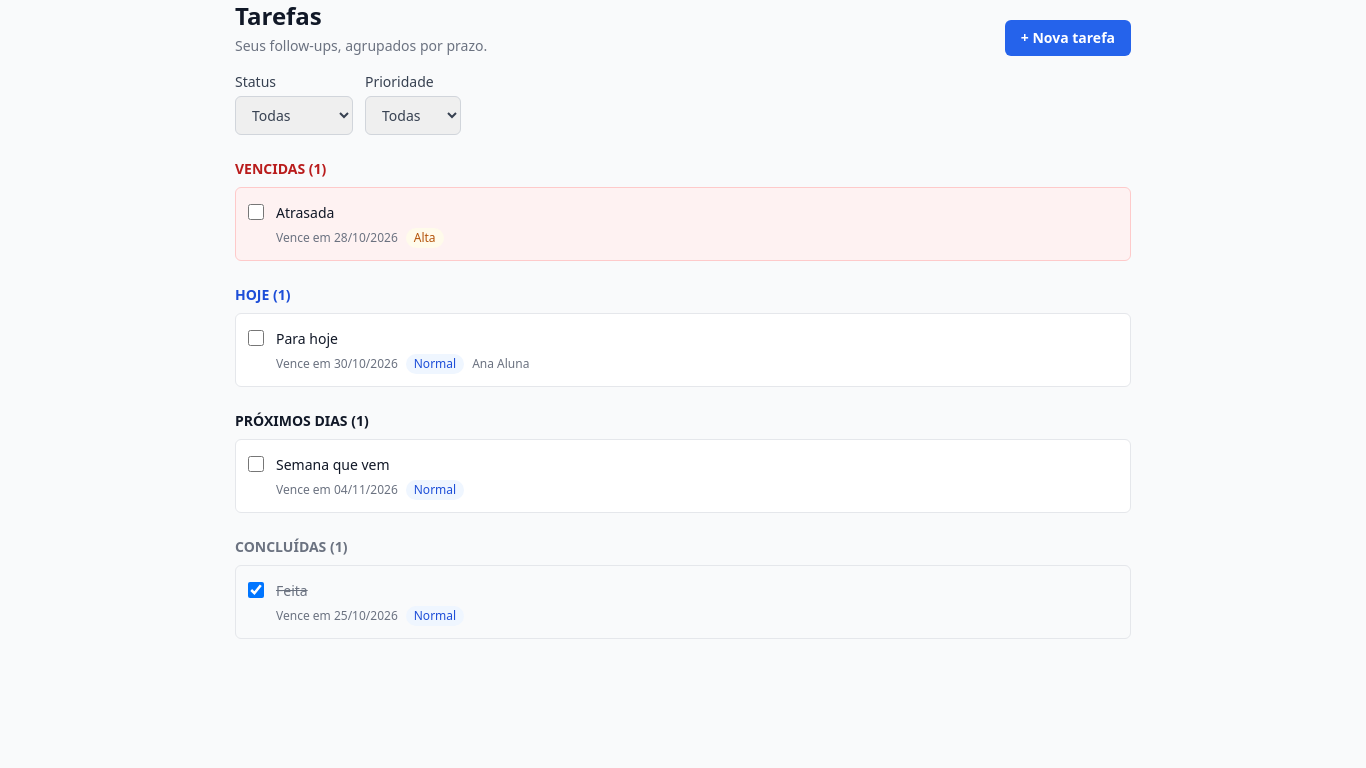
Test: tarefas › clique na tarefa abre o detalhe/edição, que permite excluir
The width and height of the screenshot is (1366, 768).
Click the button "Semana que vem" at (333,465), box [276,455,390,475]
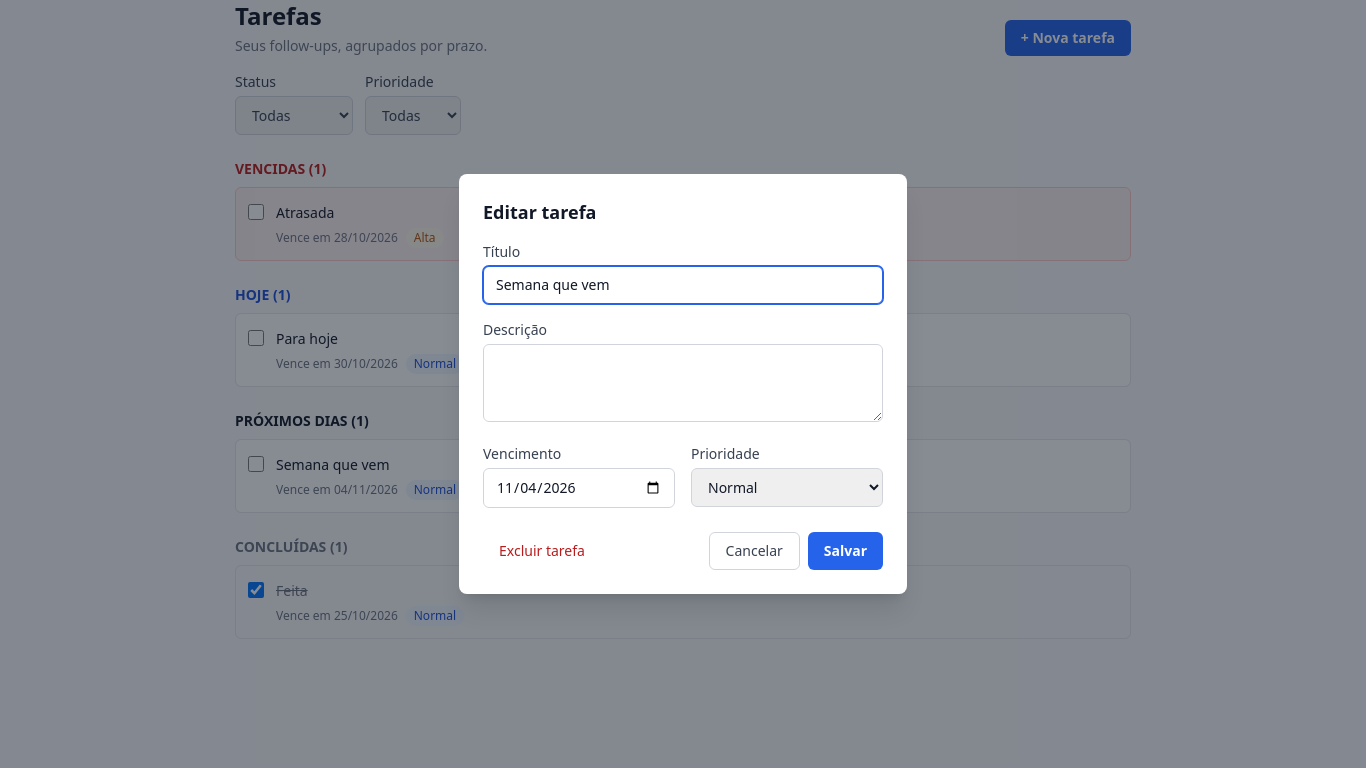
Expected: the field labelled "Título" holds "Semana que vem", [483,266,883,304]
Click the button "Excluir tarefa" at (542,551), box [483,533,601,569]
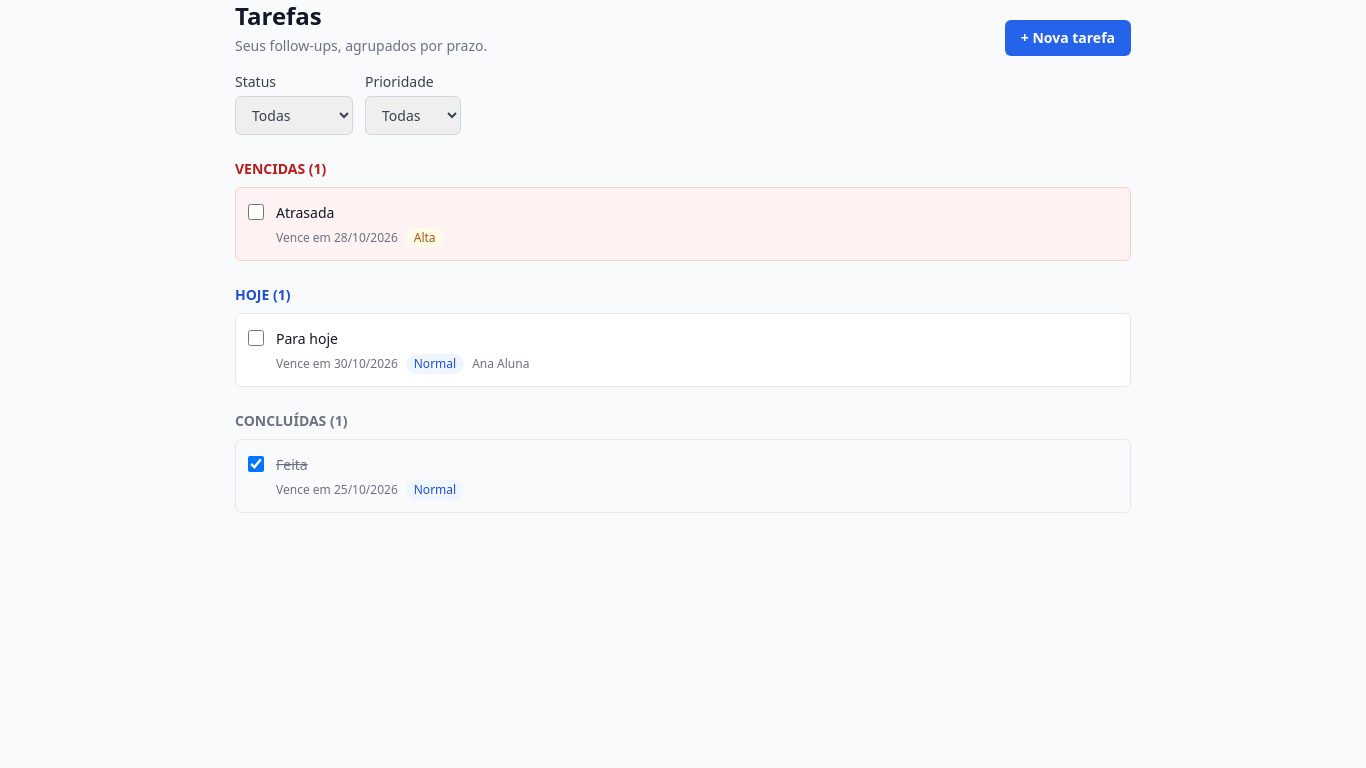
Expected: the button "Semana que vem" is gone
